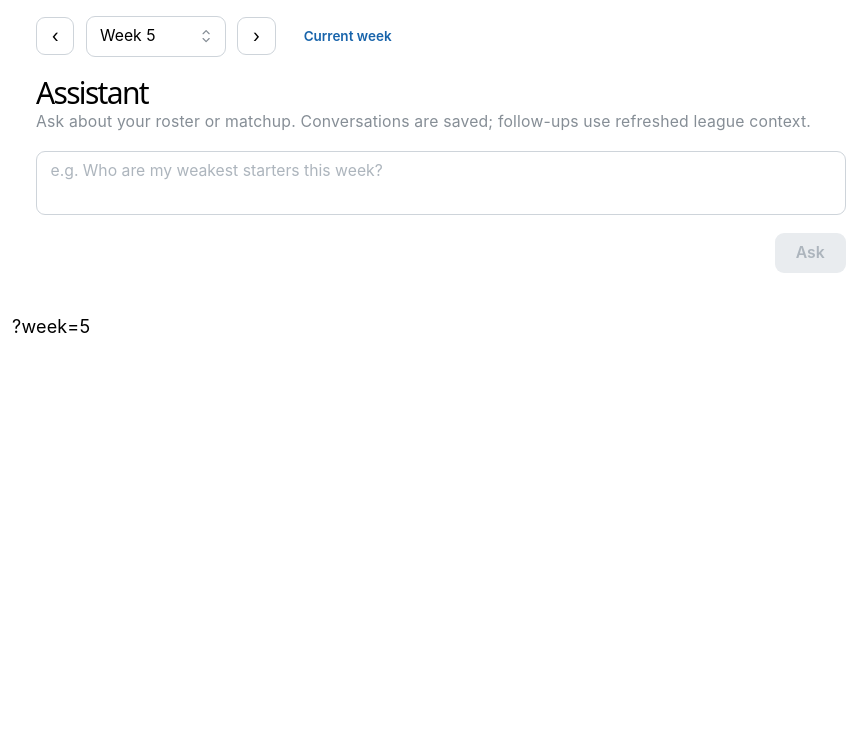
Test case: reports no-provider on the failed turn and retries it in place
Type "First?" into the text box named "question" at (441, 183), box x1=36 y1=151 x2=846 y2=214
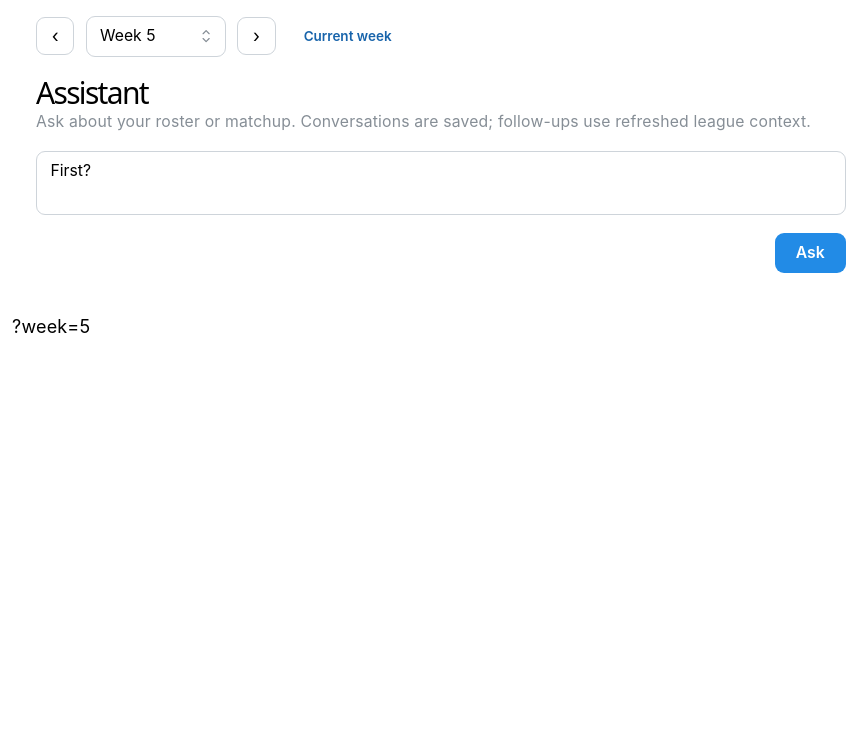
Click the button "Ask" at (810, 253), box x1=774 y1=232 x2=846 y2=273
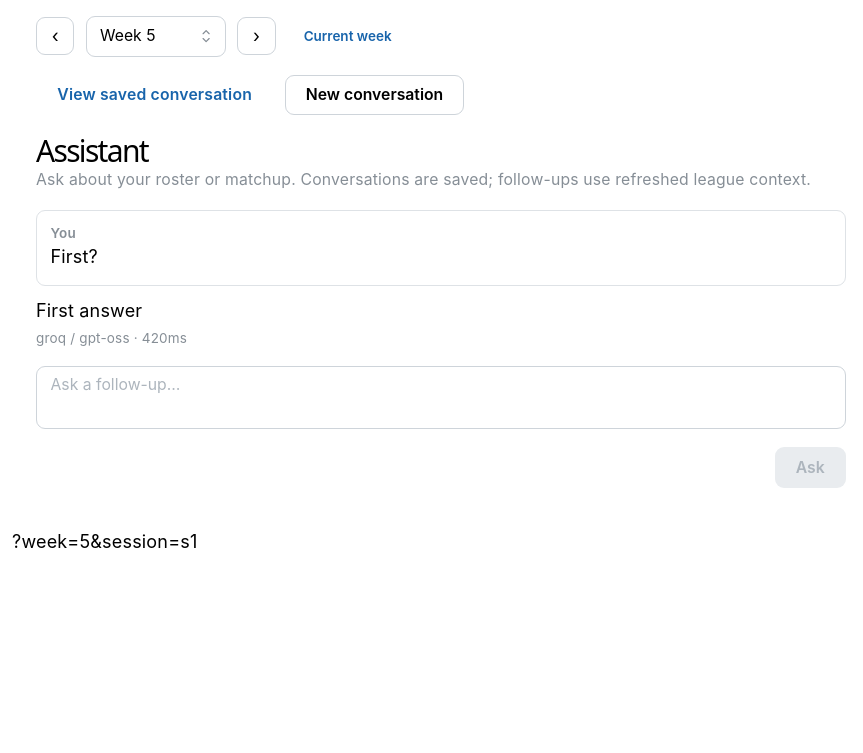
Now the text "First answer" is shown, box x1=36 y1=300 x2=142 y2=321
Type "Second?" into the text box named "question" at (441, 398), box x1=36 y1=366 x2=846 y2=429
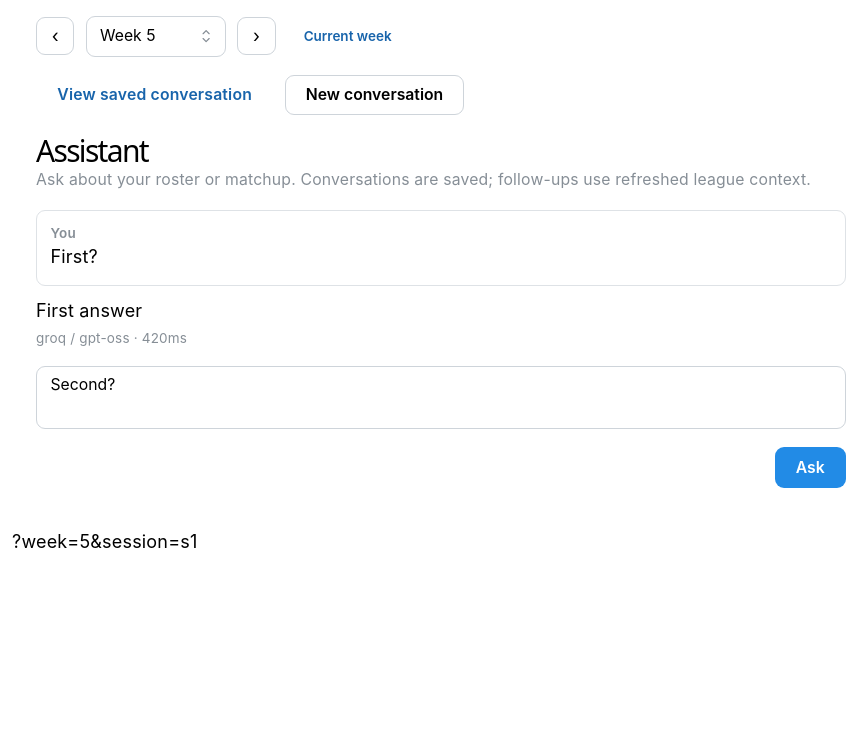
Click the button "Ask" at (810, 468), box x1=774 y1=447 x2=846 y2=488
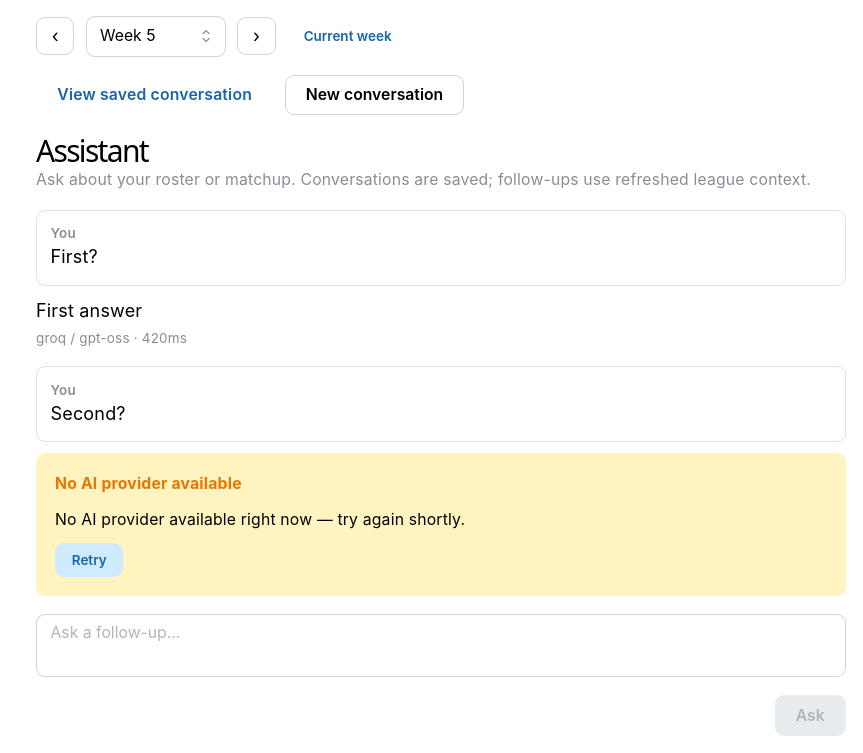
Now the text "First answer" is shown, box x1=36 y1=300 x2=142 y2=321
Now the text "No AI provider available" is shown, box x1=55 y1=472 x2=242 y2=497
Click the button "Retry" at (89, 560), box x1=55 y1=544 x2=123 y2=577
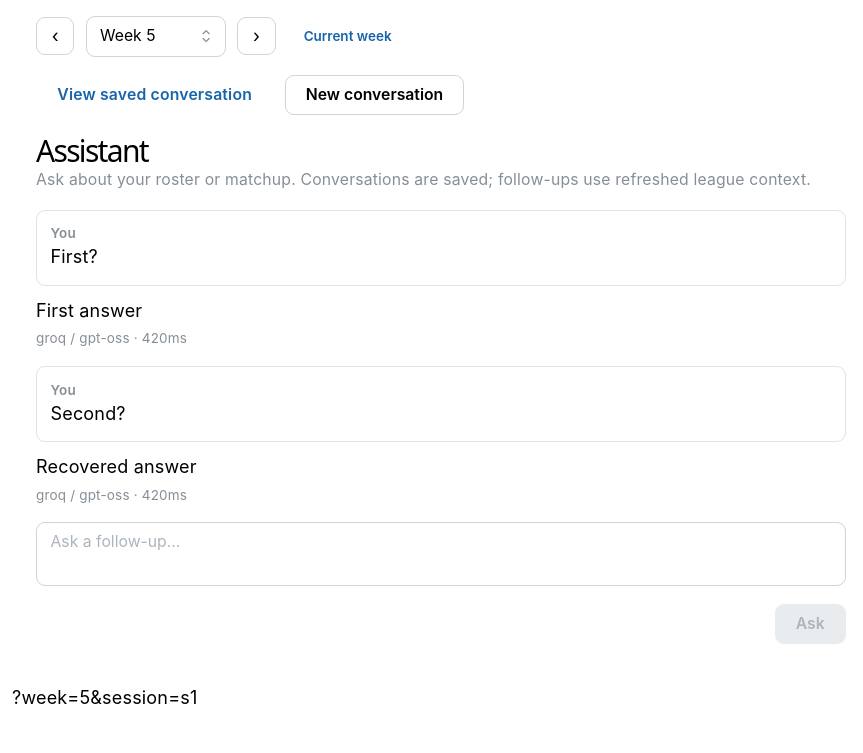
Now the text "Recovered answer" is shown, box x1=36 y1=456 x2=197 y2=477
Now the message is gone
Now the text "Second?" is shown once, box x1=50 y1=402 x2=126 y2=424
